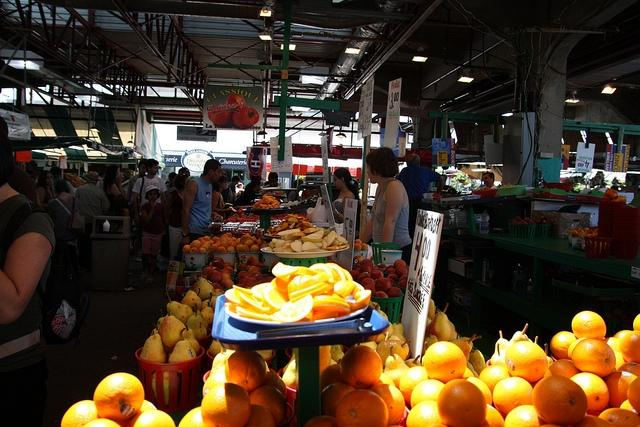orange: (532, 375, 588, 427), (93, 373, 145, 422), (437, 379, 487, 427), (201, 383, 251, 427), (335, 390, 389, 427), (340, 345, 383, 390), (492, 376, 534, 422), (424, 341, 467, 384), (225, 350, 267, 392), (572, 338, 616, 378), (506, 341, 548, 382), (570, 372, 610, 412), (368, 384, 406, 425), (249, 386, 287, 426), (601, 371, 638, 408), (399, 366, 431, 406), (478, 364, 514, 399), (272, 294, 314, 324), (321, 382, 356, 417), (406, 400, 447, 427), (62, 399, 102, 426), (410, 378, 446, 408), (572, 310, 606, 340), (178, 406, 224, 427), (505, 404, 548, 426), (462, 376, 492, 406), (602, 338, 628, 372), (236, 306, 286, 323), (290, 284, 332, 304), (130, 409, 176, 427), (550, 331, 578, 360), (598, 408, 640, 427), (259, 371, 287, 399), (202, 372, 232, 398), (296, 271, 332, 292), (244, 404, 276, 426), (620, 330, 640, 364), (548, 359, 582, 379), (289, 282, 328, 299), (240, 292, 270, 314), (262, 285, 286, 312), (321, 364, 344, 392), (308, 263, 338, 284), (312, 299, 351, 314), (346, 290, 372, 312), (626, 376, 640, 415), (482, 404, 505, 426), (384, 368, 406, 390), (572, 415, 612, 427), (225, 288, 248, 308), (568, 338, 588, 361), (272, 262, 300, 278), (251, 282, 272, 302), (334, 280, 356, 299), (304, 415, 338, 427), (326, 263, 346, 281), (616, 362, 640, 377), (82, 418, 121, 427), (314, 294, 348, 304), (374, 372, 396, 387), (136, 400, 158, 415), (620, 399, 638, 416), (290, 266, 320, 275), (232, 284, 254, 296), (351, 280, 364, 298), (341, 266, 354, 280), (460, 368, 474, 378), (224, 302, 238, 310), (633, 314, 639, 330), (538, 424, 563, 427), (242, 239, 252, 244)
peach: (232, 284, 254, 296), (206, 270, 222, 284), (360, 278, 376, 289), (244, 276, 258, 288), (352, 255, 363, 265), (394, 259, 406, 268), (192, 240, 202, 250), (219, 241, 229, 250), (239, 244, 250, 252), (397, 280, 408, 288), (224, 266, 235, 274), (212, 257, 224, 264), (182, 244, 192, 252), (250, 244, 260, 252), (211, 244, 220, 252), (217, 247, 227, 253), (386, 268, 396, 274), (190, 247, 200, 253), (227, 246, 236, 252), (354, 239, 362, 245), (222, 236, 230, 242), (204, 242, 210, 250), (260, 244, 268, 250), (225, 232, 232, 238), (200, 246, 207, 252), (250, 236, 256, 242), (241, 238, 247, 244), (212, 236, 218, 241), (204, 235, 210, 240), (230, 237, 237, 241), (228, 240, 234, 244)
pear: (139, 331, 166, 372), (158, 310, 187, 347), (164, 289, 193, 325), (426, 302, 452, 342), (170, 328, 198, 364), (376, 340, 411, 368), (186, 303, 207, 340), (505, 323, 530, 353), (384, 346, 410, 373), (451, 334, 476, 362), (194, 271, 214, 302), (182, 325, 200, 354), (181, 290, 203, 312), (392, 313, 407, 342), (422, 327, 438, 354), (494, 331, 509, 353), (208, 340, 226, 358), (200, 302, 214, 323), (374, 304, 388, 321), (427, 298, 435, 320)
